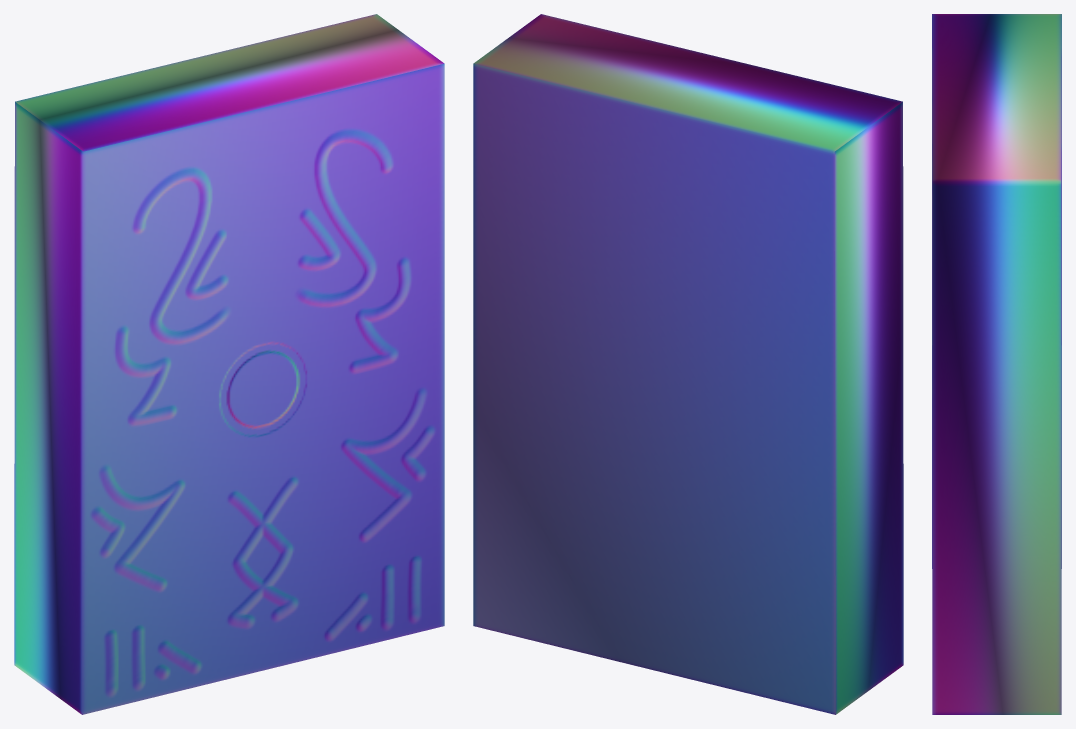
The model's file is RAI_GenericDoor.fbx.
3 renders of one model, left to right at view 1: azimuth 30°, elevation 25°; view 2: azimuth 150°, elevation 25°; view 3: azimuth 270°, elevation 25°, orthographic. The views are drawn at different scales.
Visible parts, largest first — view 1: RetopoGroup1; view 2: RetopoGroup1; view 3: RetopoGroup1.
Part boxes in pixels (x1,y1,x2,y2): RetopoGroup1: [14, 14, 444, 714]; RetopoGroup1: [473, 14, 903, 714]; RetopoGroup1: [932, 14, 1061, 714].
Size of the model in its own units: 138 by 205 by 45.27.
